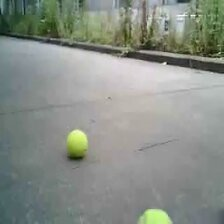tennis: (67, 129, 87, 158)
